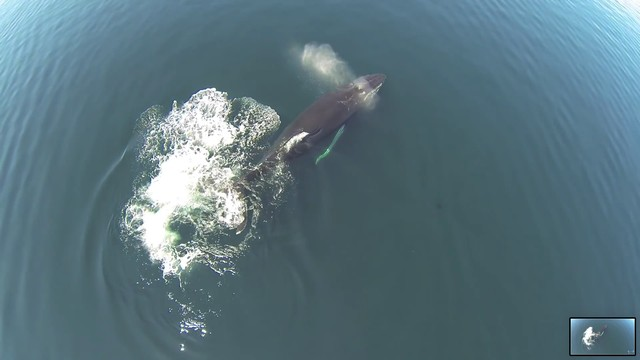whale: (200, 66, 396, 230)
